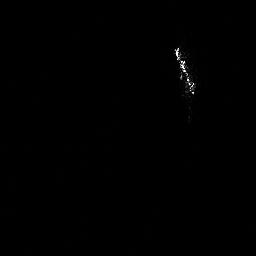ship: (173, 46, 196, 97)
